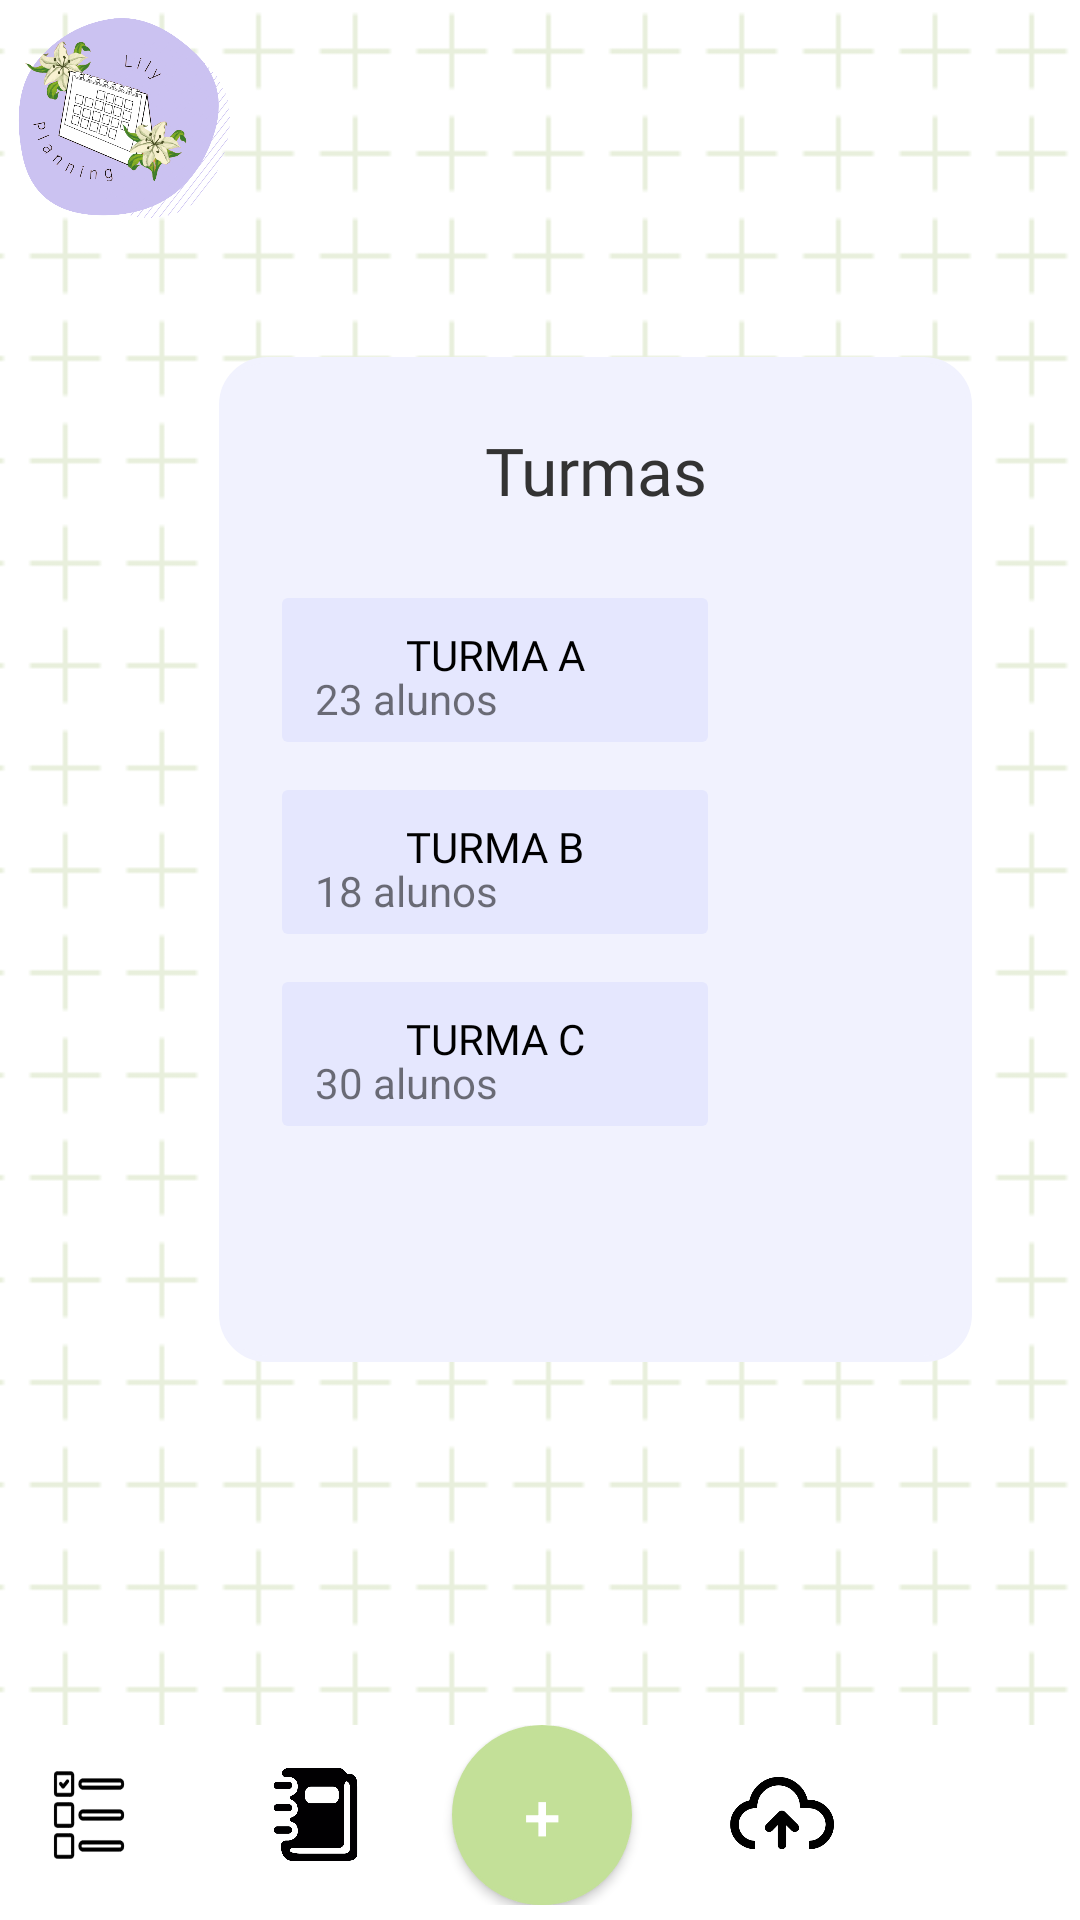

Where icons sit on this 1080*1920 app screen, as (x1, y1, x2, y2):
notebook: (274, 1768, 357, 1861)
todolist: (54, 1771, 125, 1859)
uploads: (730, 1777, 834, 1849)
